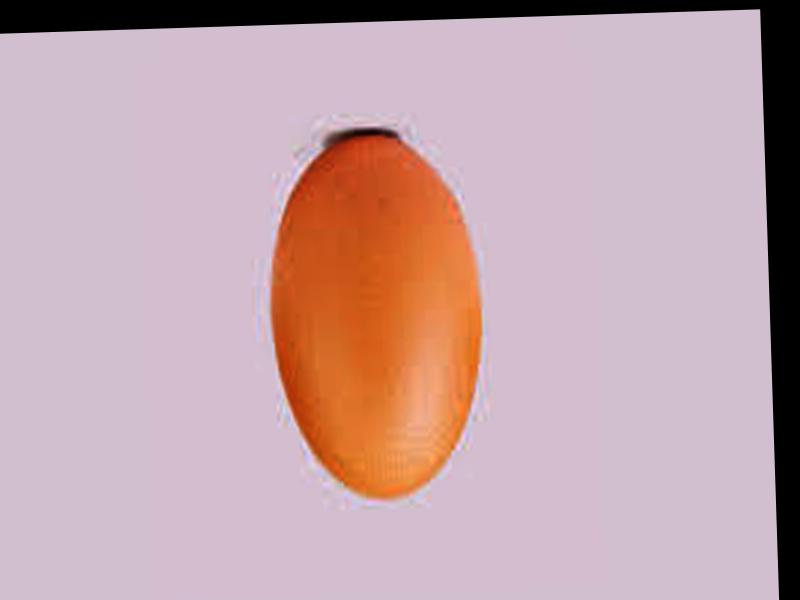Eggs: (267, 127, 484, 508)
